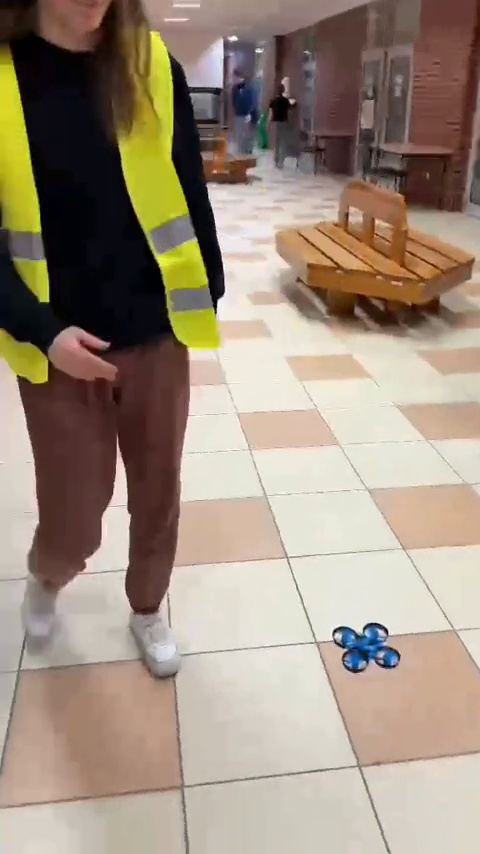drone: (331, 622, 400, 671)
no vest: (263, 76, 294, 162), (226, 67, 257, 152)
vest: (0, 7, 236, 685)
